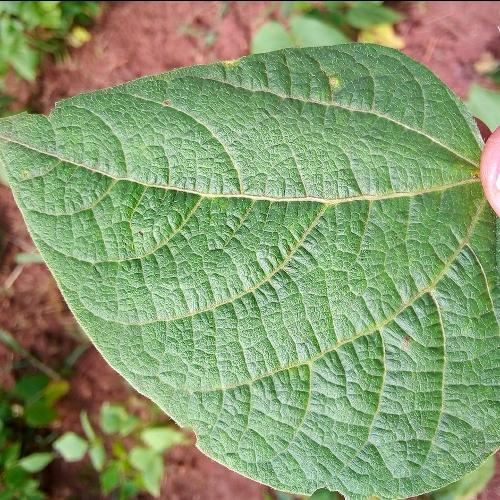sehat: (177, 126, 375, 406)
